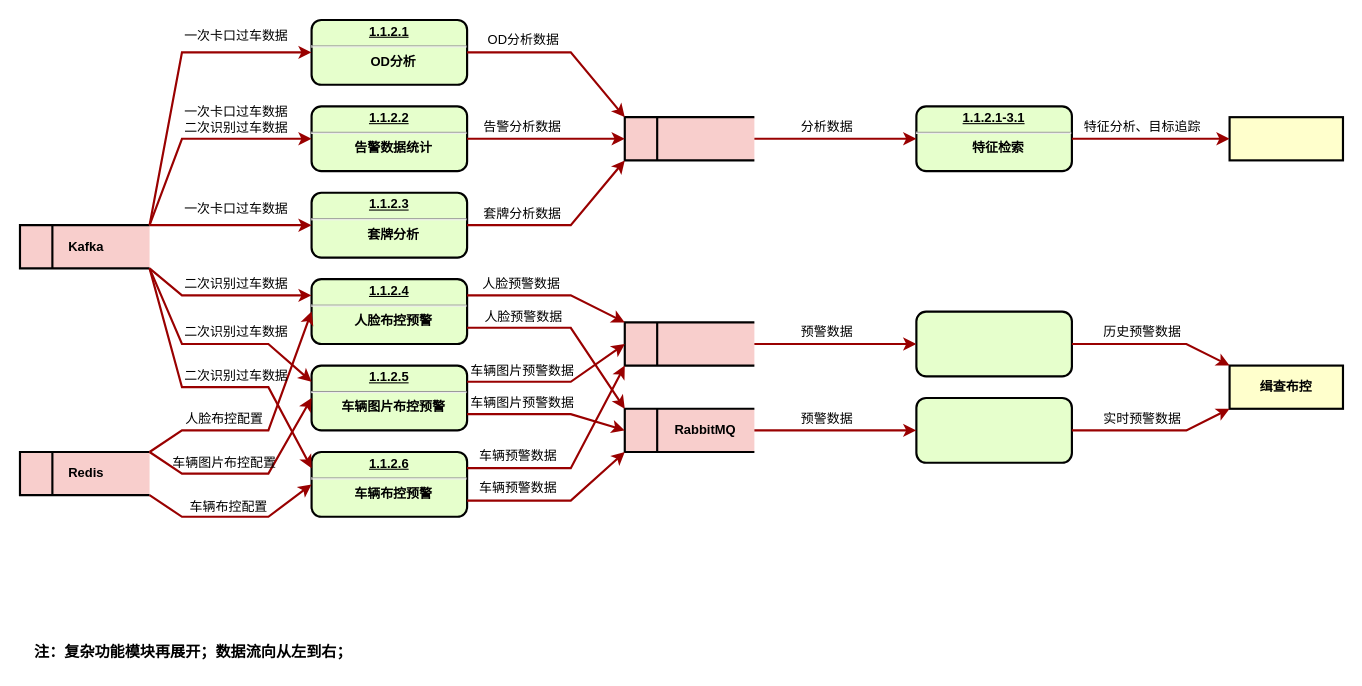
This 1362x686 diagram has some shape labels left out. The box of each missing label's shape, as (x1, y1, x2, y2) in pixels:
1.1.2.4-6.1 历史预警查询: (915, 310, 1072, 377)
1.1.2.4-6.2 实时推送: (915, 396, 1072, 463)
ElasticSearch: (623, 116, 755, 161)
MySQL: (623, 321, 755, 366)
车辆技战法: (1228, 116, 1344, 161)
